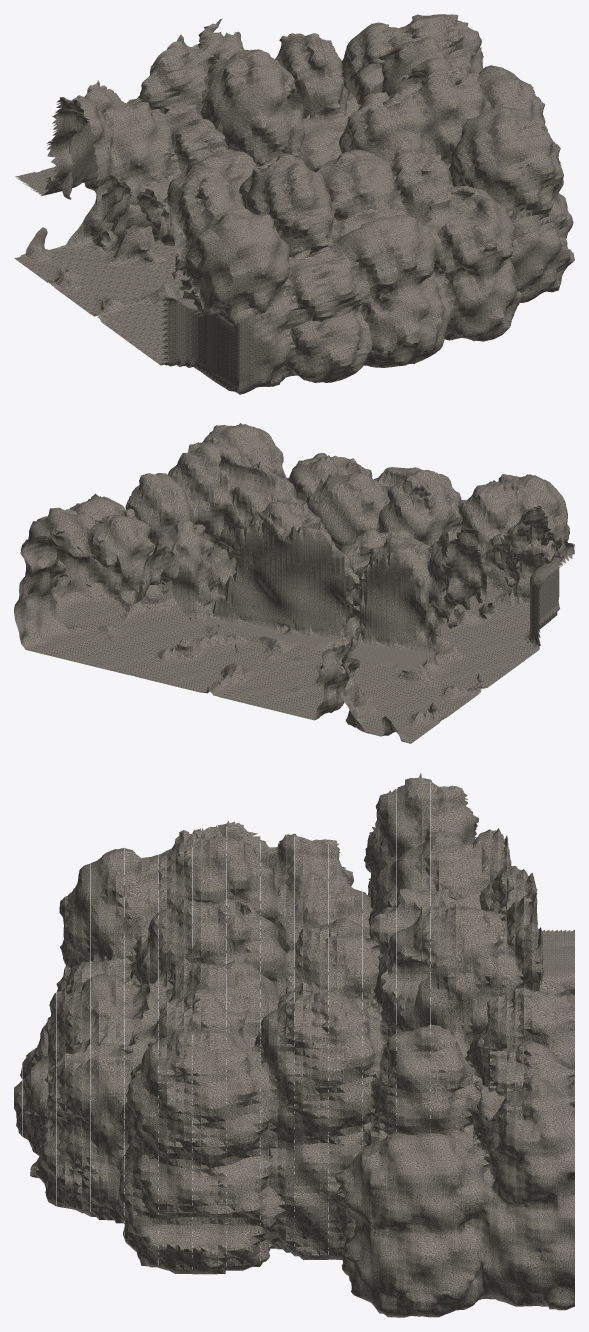
File: taihu_rockery_5.glb
3 renders of one model, top to bottom at view 1: azimuth 30°, elevation 25°; view 2: azimuth 150°, elevation 25°; view 3: azimuth 270°, elevation 25°, orthographic. The views are drawn at different scales.
Parts seen in each view (by area): view 1: taihu_rockery_50, taihu_rockery_51, taihu_rockery_54, taihu_rockery_58, taihu_rockery_56, taihu_rockery_52, taihu_rockery_55, taihu_rockery_53, taihu_rockery_57, taihu_rockery_59, taihu_rockery_510, taihu_rockery_511; view 2: taihu_rockery_50, taihu_rockery_51, taihu_rockery_59, taihu_rockery_53, taihu_rockery_511, taihu_rockery_58, taihu_rockery_52, taihu_rockery_55, taihu_rockery_54, taihu_rockery_57, taihu_rockery_56, taihu_rockery_510; view 3: taihu_rockery_511, taihu_rockery_510, taihu_rockery_59, taihu_rockery_50, taihu_rockery_51, taihu_rockery_58, taihu_rockery_55, taihu_rockery_54, taihu_rockery_57, taihu_rockery_53, taihu_rockery_56, taihu_rockery_52.
Boxes of the visible parts, x1,y1,x2,y2 form: taihu_rockery_50: [14, 80, 290, 394]; taihu_rockery_51: [20, 43, 367, 393]; taihu_rockery_54: [177, 19, 442, 367]; taihu_rockery_58: [297, 22, 544, 333]; taihu_rockery_56: [271, 33, 506, 346]; taihu_rockery_52: [89, 41, 367, 382]; taihu_rockery_55: [180, 25, 504, 367]; taihu_rockery_53: [90, 19, 437, 382]; taihu_rockery_57: [271, 33, 521, 349]; taihu_rockery_59: [300, 14, 574, 329]; taihu_rockery_510: [371, 14, 574, 294]; taihu_rockery_511: [387, 14, 573, 291]; taihu_rockery_50: [345, 474, 574, 743]; taihu_rockery_51: [286, 470, 569, 742]; taihu_rockery_59: [41, 425, 334, 683]; taihu_rockery_53: [232, 469, 522, 721]; taihu_rockery_511: [14, 425, 232, 667]; taihu_rockery_58: [102, 423, 335, 682]; taihu_rockery_52: [284, 470, 521, 719]; taihu_rockery_55: [174, 466, 445, 712]; taihu_rockery_54: [224, 467, 445, 712]; taihu_rockery_57: [145, 455, 386, 697]; taihu_rockery_56: [163, 455, 384, 697]; taihu_rockery_510: [41, 425, 234, 668]; taihu_rockery_511: [118, 1028, 574, 1317]; taihu_rockery_510: [119, 1026, 574, 1274]; taihu_rockery_59: [40, 990, 574, 1273]; taihu_rockery_50: [60, 773, 574, 1036]; taihu_rockery_51: [20, 780, 574, 1077]; taihu_rockery_58: [41, 990, 574, 1252]; taihu_rockery_55: [14, 873, 574, 1178]; taihu_rockery_54: [14, 873, 540, 1150]; taihu_rockery_57: [26, 935, 574, 1218]; taihu_rockery_53: [18, 854, 572, 1141]; taihu_rockery_56: [29, 935, 574, 1209]; taihu_rockery_52: [20, 854, 574, 1081].
Bounding box in the file's own units: 19.59 × 8.16 × 15.84.
1 material, 1 textured.
